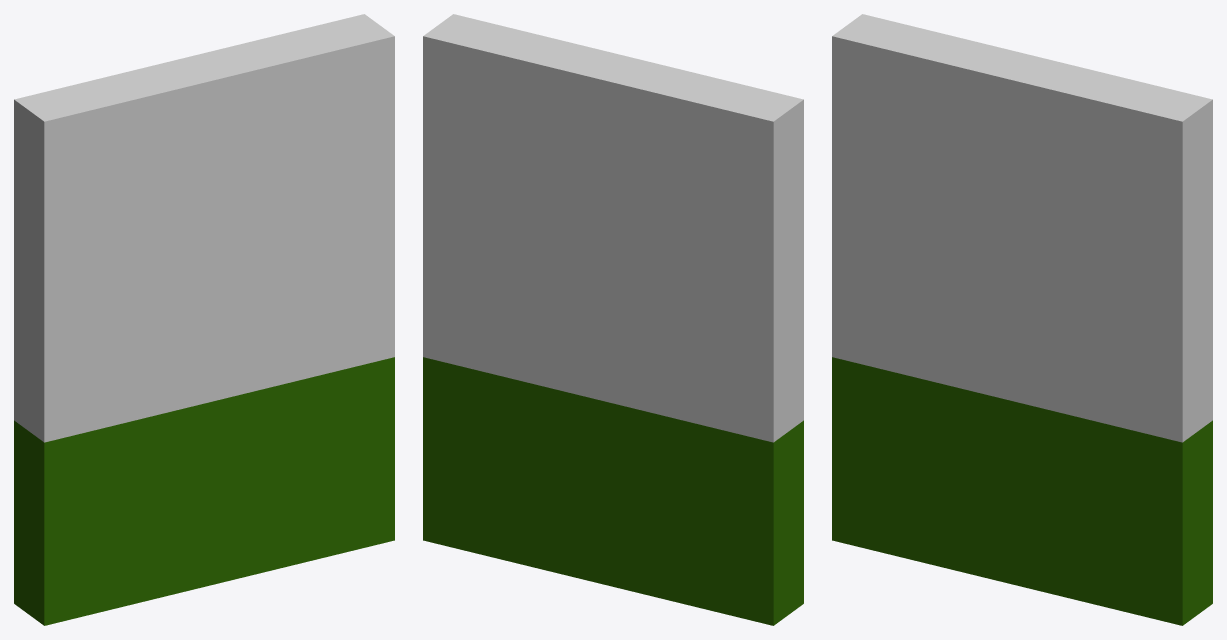
File: Wall_Flat.fbx
The picture shows the model from 3 angles, left to right: view 1: azimuth 30°, elevation 25°; view 2: azimuth 150°, elevation 25°; view 3: azimuth 330°, elevation 25°; orthographic projection.
Parts seen in each view (by area): view 1: Wall; view 2: Wall; view 3: Wall.
Boxes of the visible parts, bbox=[...] form: Wall: bbox=[14, 14, 394, 625]; Wall: bbox=[423, 14, 803, 625]; Wall: bbox=[832, 14, 1212, 625].
Size of the model in its own units: 200 by 275 by 30.
